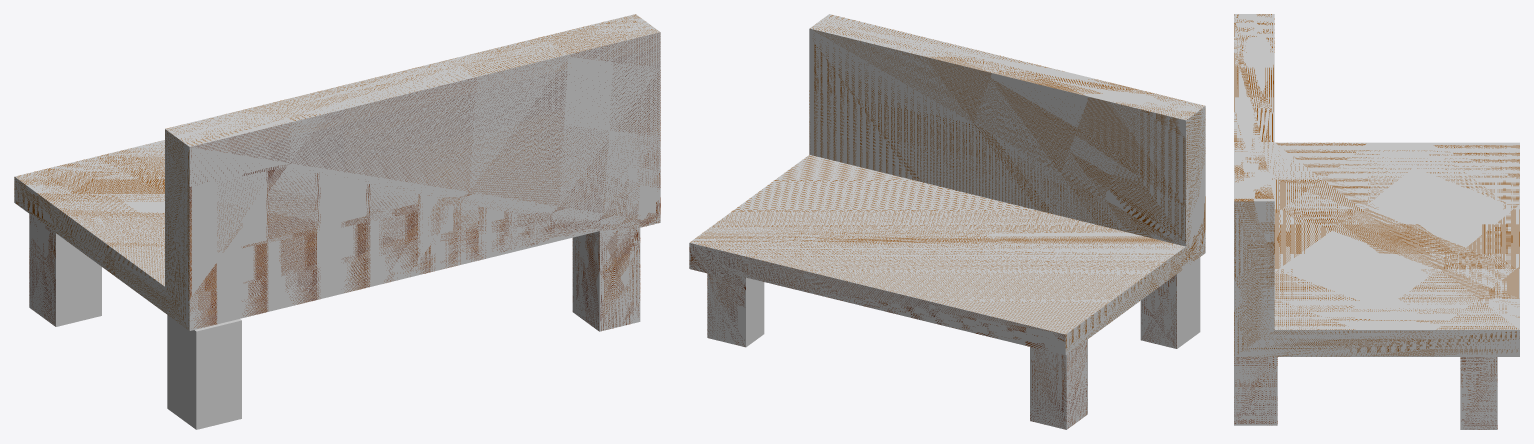
The picture shows the model from 3 angles, left to right: view 1: azimuth 30°, elevation 25°; view 2: azimuth 150°, elevation 25°; view 3: azimuth 270°, elevation 25°; orthographic projection. The views are drawn at different scales.
Parts seen in each view (by area): view 1: mesh4_mesh4-geometry, mesh3_mesh3-geometry, mesh2_mesh2-geometry; view 2: mesh4_mesh4-geometry, mesh2_mesh2-geometry, mesh3_mesh3-geometry, mesh1_mesh1-geometry; view 3: mesh4_mesh4-geometry, mesh1_mesh1-geometry.
Part boxes in pixels (bbox=[...]): mesh4_mesh4-geometry: bbox=[14, 14, 660, 331]; mesh3_mesh3-geometry: bbox=[167, 315, 241, 429]; mesh2_mesh2-geometry: bbox=[29, 214, 101, 326]; mesh4_mesh4-geometry: bbox=[689, 14, 1205, 355]; mesh2_mesh2-geometry: bbox=[1030, 339, 1087, 429]; mesh3_mesh3-geometry: bbox=[1140, 257, 1200, 348]; mesh1_mesh1-geometry: bbox=[707, 273, 764, 347]; mesh4_mesh4-geometry: bbox=[1234, 14, 1519, 425]; mesh1_mesh1-geometry: bbox=[1460, 357, 1497, 429].
Size of the model in its own units: 0.756 by 0.4368 by 0.4875.
